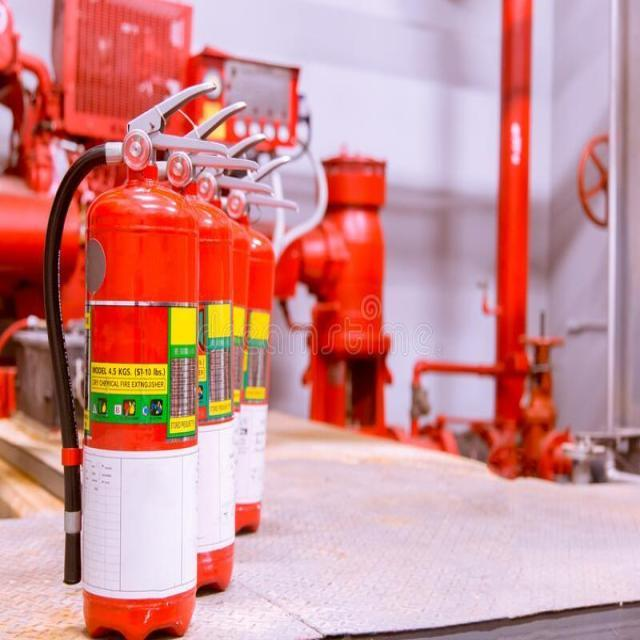fire_extinguisher: (40, 79, 232, 639), (102, 93, 264, 600)
